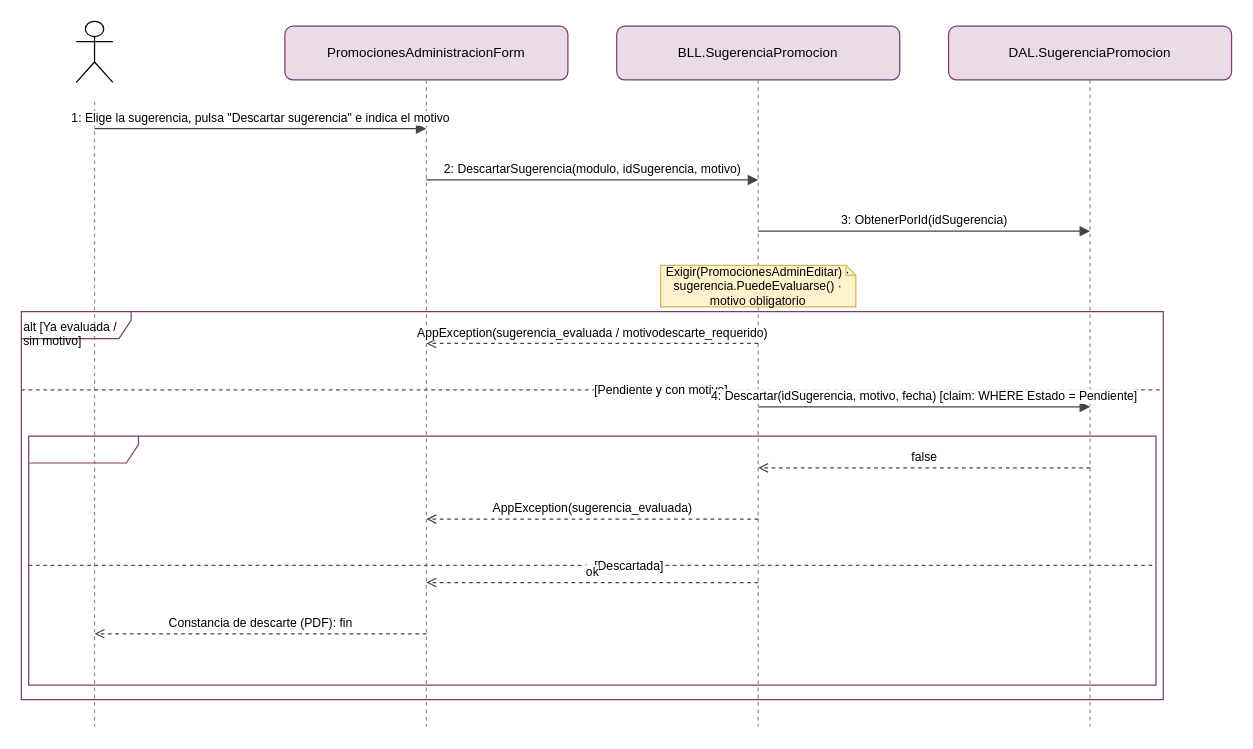
Image size: 1253x749. Some labels were removed from this diagram. The centre of each missing label's shape, as x and y in pixels:
"Administración" belongs at point (94, 51).
"alt [Otra sesión ya la evaluó]" belongs at point (591, 560).
